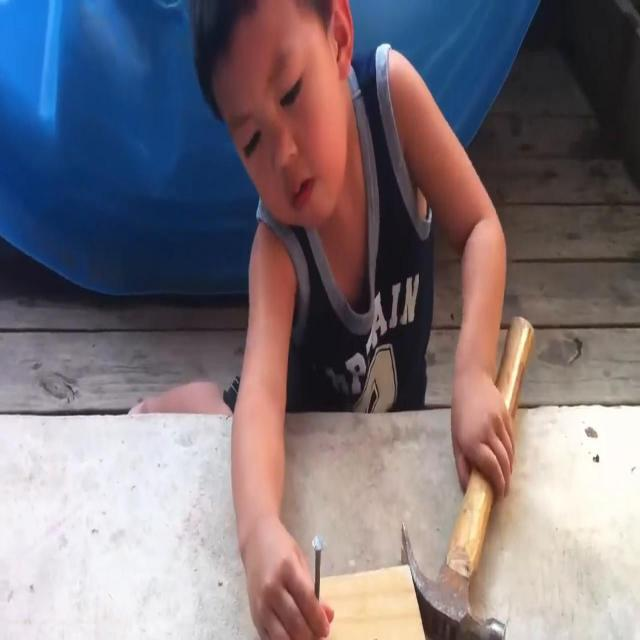hammer: (397, 315, 537, 640)
